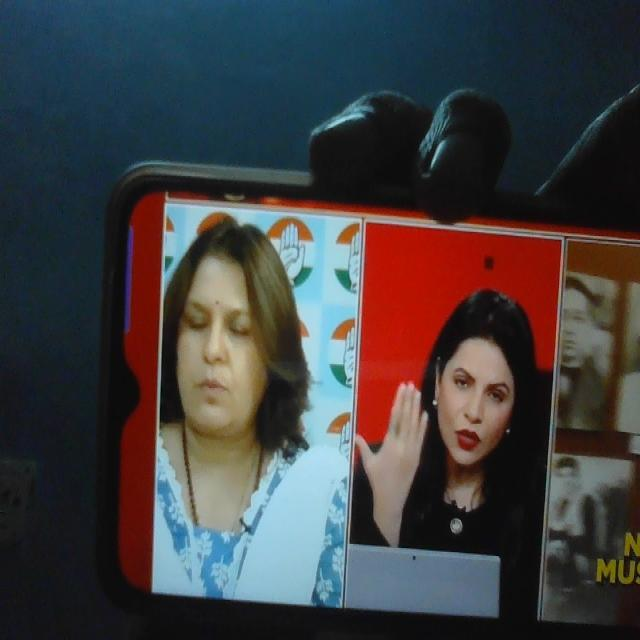fake: (167, 224, 283, 443), (423, 285, 532, 491)
